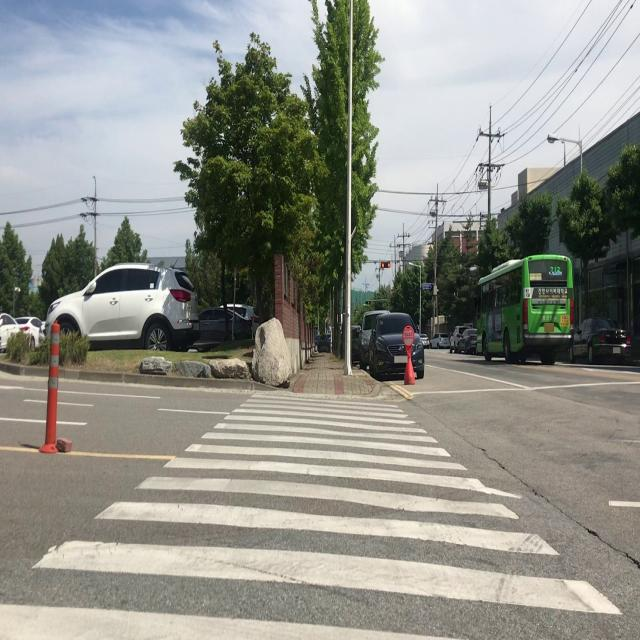횡단보도: (0, 386, 626, 639)
